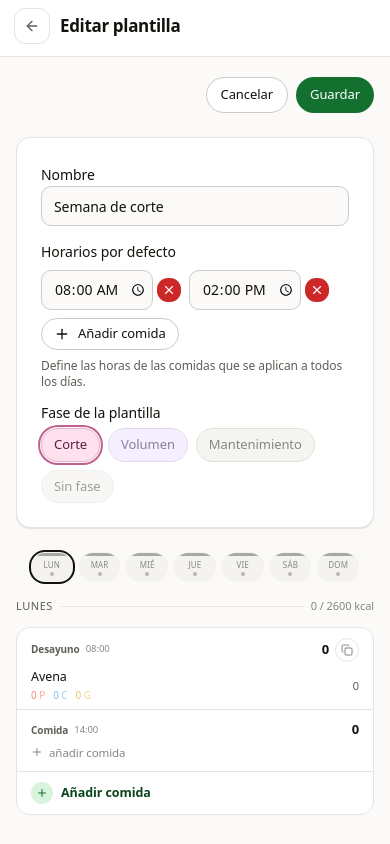
Test: PlantillaEditorPage — mobile day list › keeps the copy-meal flow, sourced from the selected day
Click the button named "copiar comida a otros días": (347, 650) [335,638,359,662]
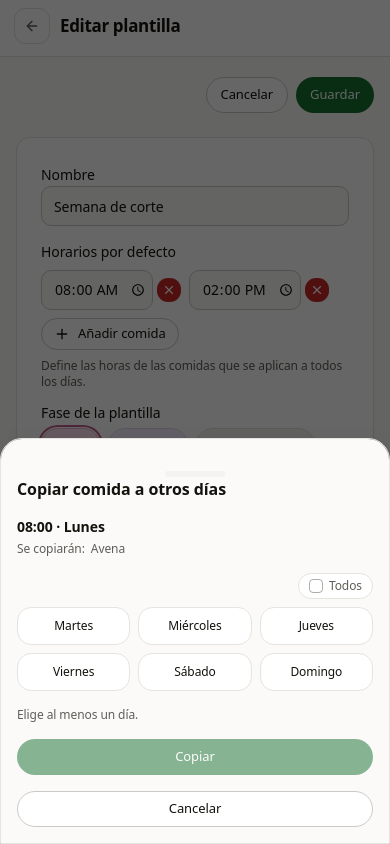
expect the text "08:00 · Lunes" is shown: met, box [17,517,105,536]
expect the text "Jueves" is shown: met, box [299,618,334,634]
